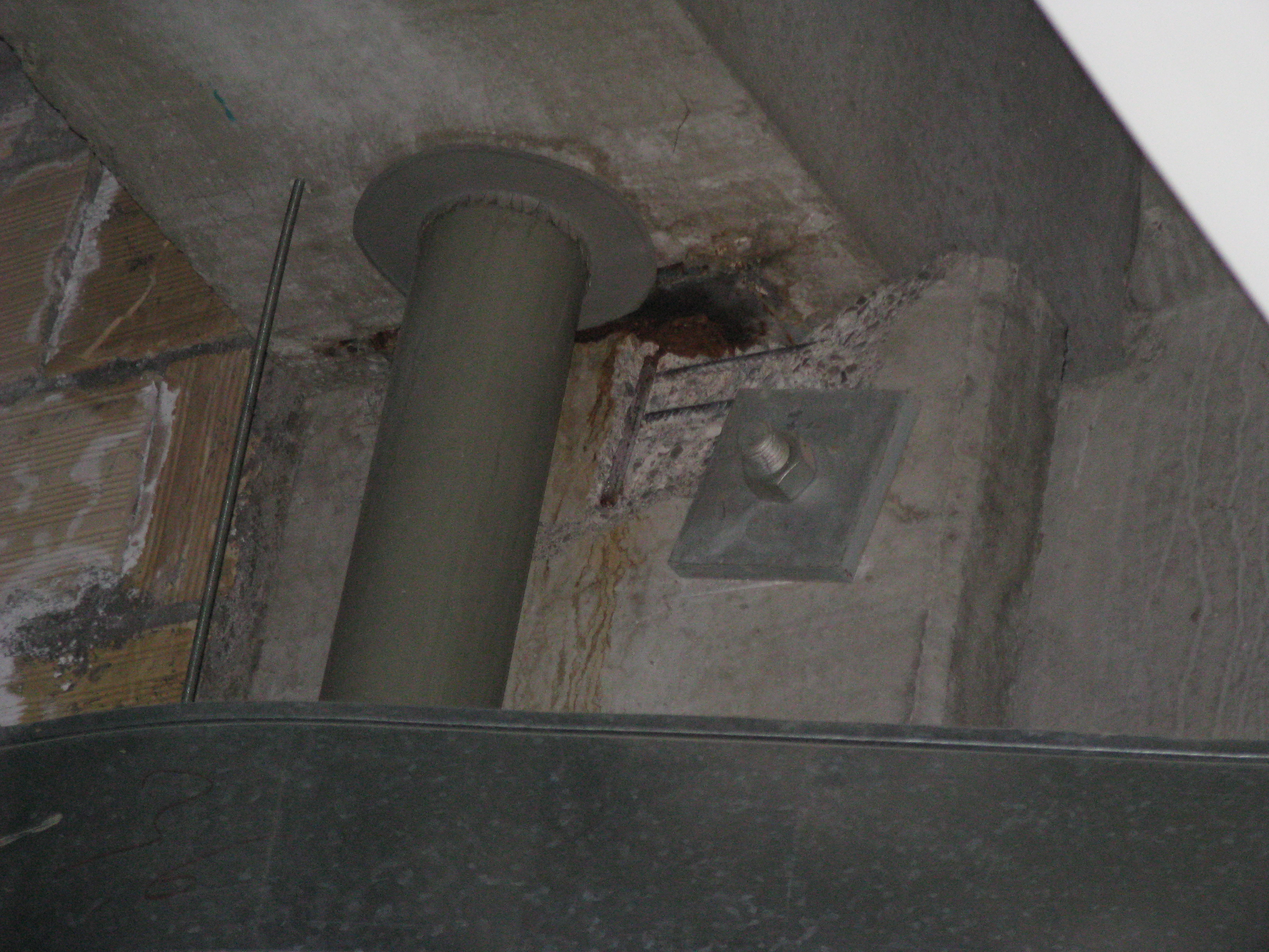Corrosion/Exposed rebar: (598, 350, 665, 509)
Crack: (48, 227, 180, 369)
Spalling: (589, 270, 949, 520)
